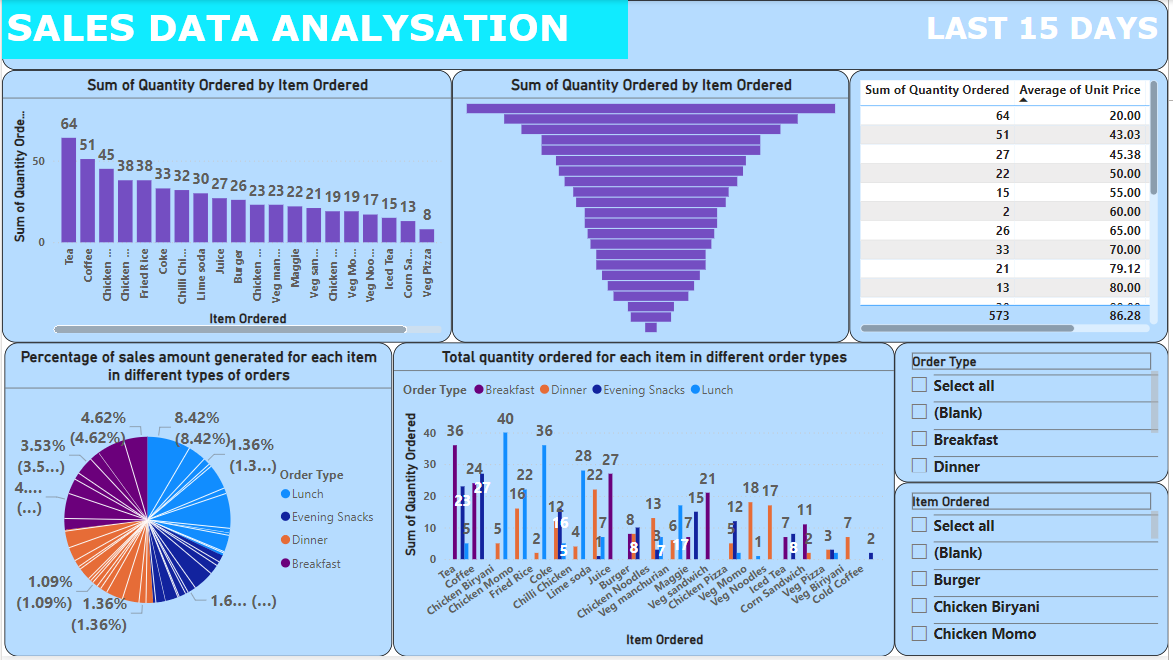

What the dashboard file says about the page in this screenshot:
{"tool":"powerbi","page":{"name":"Dashboard","canvas":[1280,720],"ordinal":4},"visuals":[{"type":"textbox","box":[0,0,1280.3,76.8],"z":0},{"type":"textbox","box":[0,0,687.5,64.5],"z":1000},{"type":"columnChart","fields":{"Category":["Data.Item Ordered"],"Y":["Sum(Data.Quantity Ordered)"]},"box":[0,76.8,494,299.1],"z":2000},{"type":"funnel","fields":{"Category":["Data.Item Ordered"],"Y":["Sum(Data.Quantity Ordered)"]},"box":[494,76.8,436.4,299.1],"z":3000},{"type":"tableEx","fields":{"Values":["Sum(Data.Quantity Ordered)","Avg(Data.Unit Price)","Data.Item Ordered"]},"box":[930.4,83.7,349.9,284],"z":4000},{"type":"slicer","fields":{"Values":["Data.Order Type"]},"box":[979.8,367.8,300.5,152.3],"z":5000},{"type":"slicer","fields":{"Values":["Data.Item Ordered"]},"box":[979.8,520.1,300.5,200.3],"z":6000},{"type":"pieChart","title":"Percentage of sales amount generated for each item in different types of orders","fields":{"Category":["Data.Order Type"],"Series":["Data.Item Ordered"],"Y":["Sum(Data.Total Amount)"]},"box":[2.7,376,425.4,344.4],"z":7000},{"type":"clusteredColumnChart","title":"Total quantity ordered for each item in different order types","fields":{"Category":["Data.Item Ordered"],"Y":["Sum(Data.Quantity Ordered)"],"Series":["Data.Order Type"]},"box":[428.1,380.1,551.6,340.3],"z":8000}]}

Visuals, with their boxes in screenshot pixels (x1, y1, x2, y2), scaled from the page's 1280x720 canvas onto the 1173x660 screenshot:
textbox: 0:0:1172:70
textbox: 0:0:630:59
columnChart - Data.Item Ordered x Sum(Data.Quantity Ordered): 0:70:453:345
funnel - Data.Item Ordered x Sum(Data.Quantity Ordered): 453:70:853:345
tableEx - Sum(Data.Quantity Ordered) x Avg(Data.Unit Price): 853:77:1172:337
slicer - Data.Order Type: 898:337:1172:477
slicer - Data.Item Ordered: 898:477:1172:659
"Percentage of sales amount generated for each item in different types of orders" pieChart: 2:345:392:659
"Total quantity ordered for each item in different order types" clusteredColumnChart: 392:348:898:659
